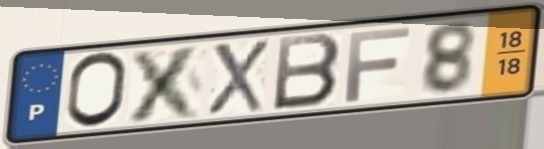8: (419, 19, 479, 97)
B: (269, 30, 344, 113)
F: (342, 24, 414, 105)
O: (62, 50, 131, 131)
X: (124, 42, 207, 125), (204, 37, 271, 118)
